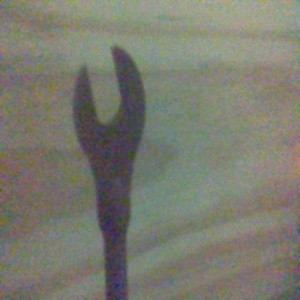spanner: (71, 43, 147, 300)
